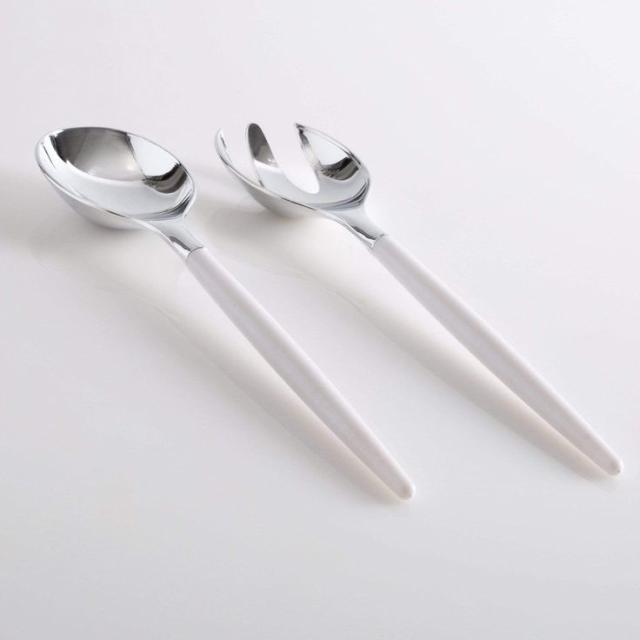spoon: (197, 108, 631, 492), (16, 117, 426, 515)
